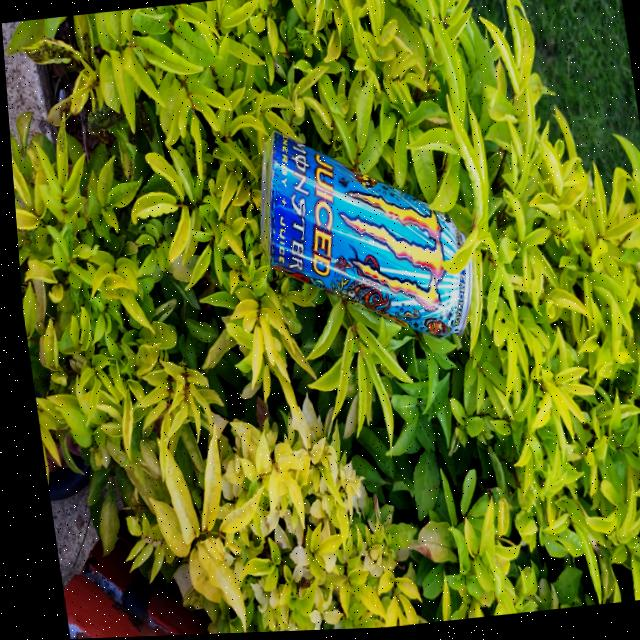Monster Aussie Lemonade: (240, 98, 474, 360)
